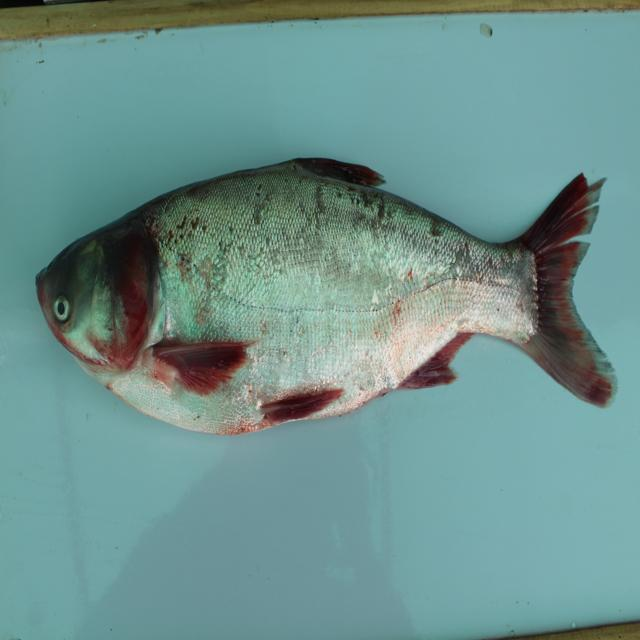Silver Carp: (43, 162, 614, 462)
